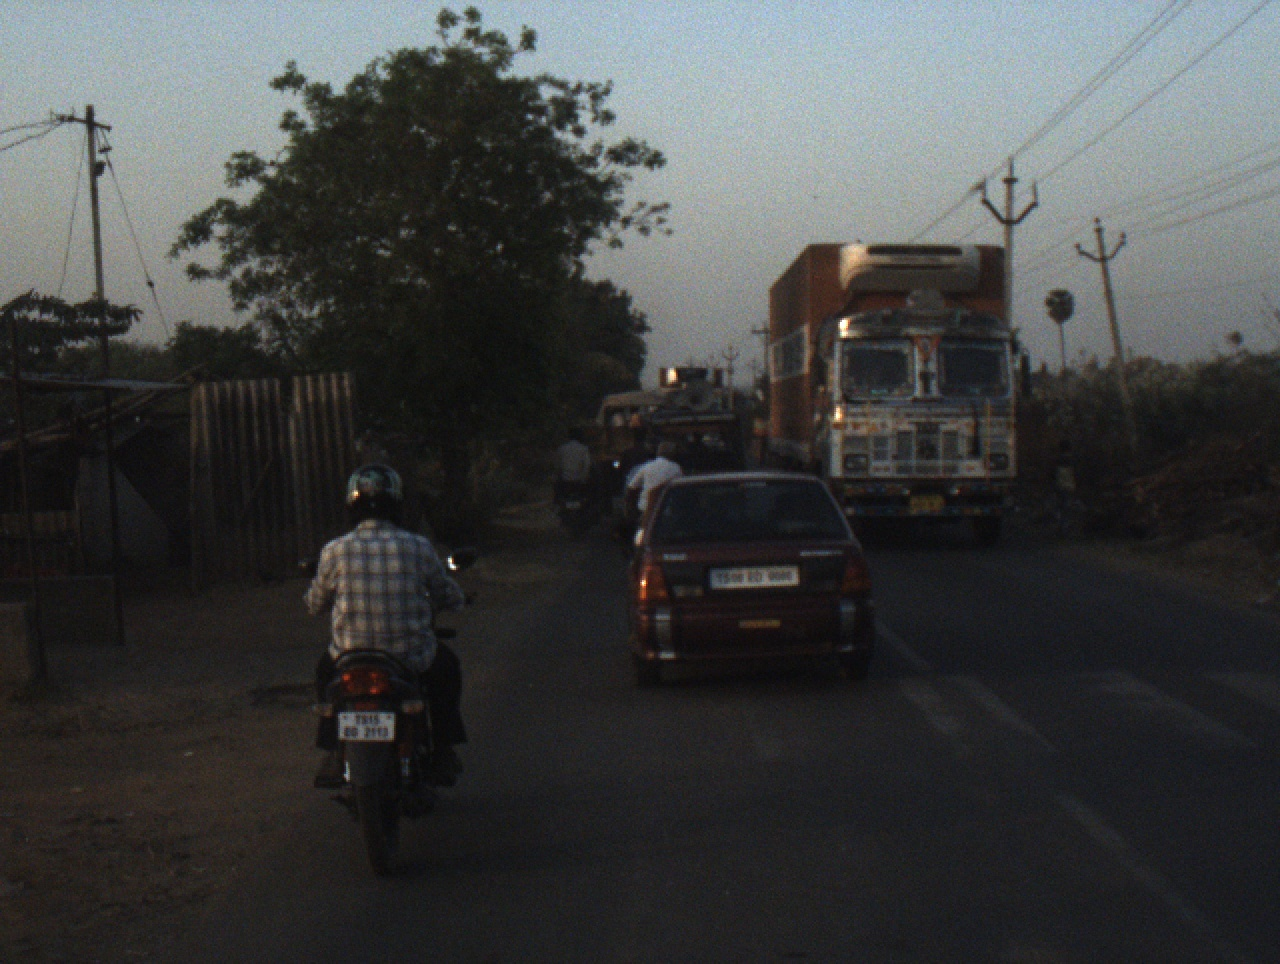autorickshaw: (645, 384, 747, 486)
car: (623, 466, 876, 698)
motorcycle: (283, 542, 493, 875), (555, 486, 598, 546)
rider: (293, 457, 471, 800), (623, 436, 688, 527), (546, 431, 598, 515), (616, 432, 654, 486)
truck: (753, 238, 1028, 556)
vehicle fallback: (568, 388, 666, 494)
